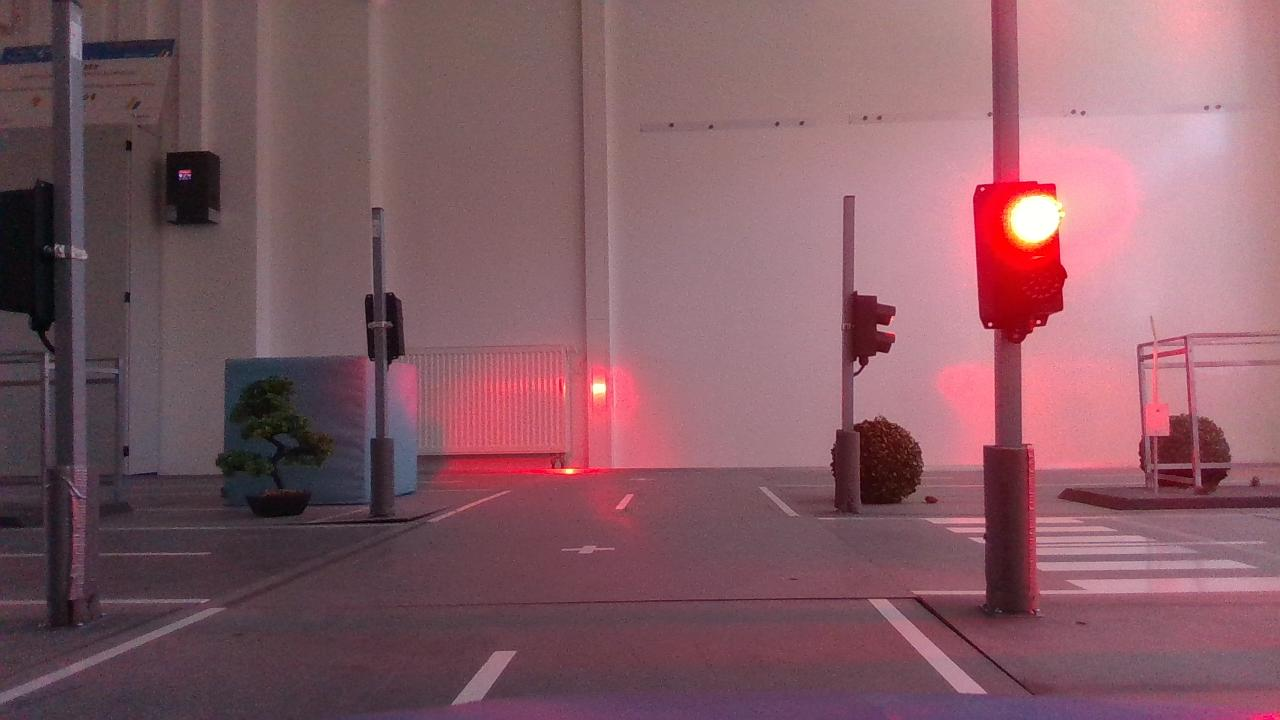traffic_light_red: (953, 162, 1090, 350)
